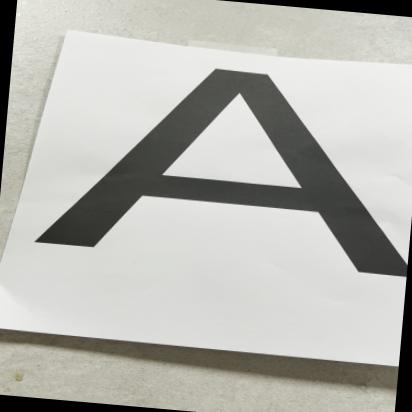seat: (17, 29, 412, 326)
